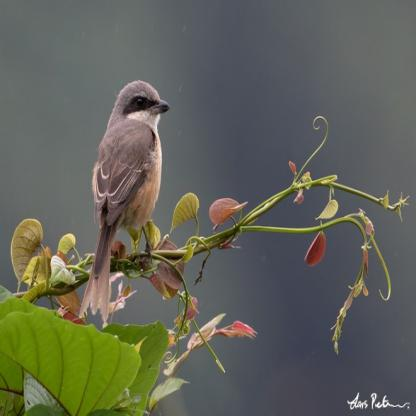Burung: (70, 78, 172, 328)
